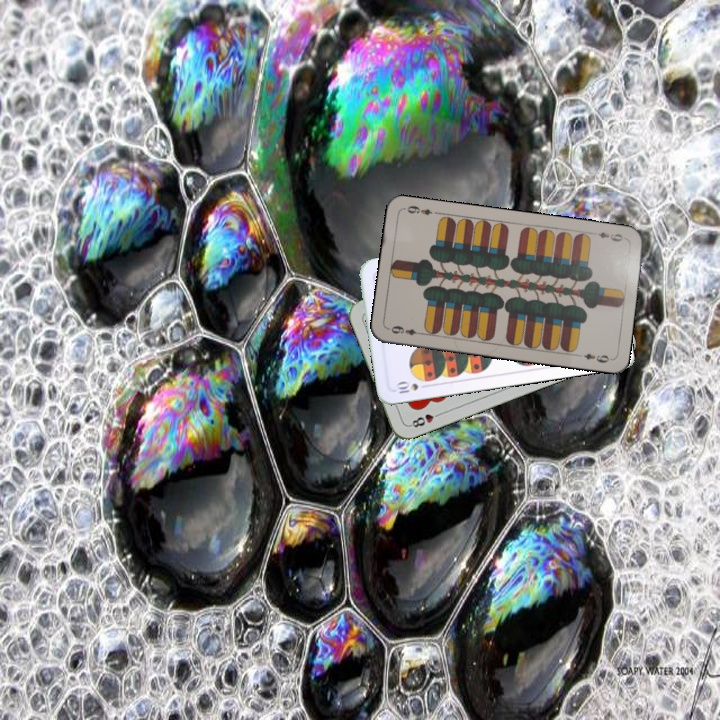E9: (387, 322, 426, 338), (594, 228, 628, 244)
H8: (405, 408, 445, 430)
S10: (391, 378, 432, 397)
